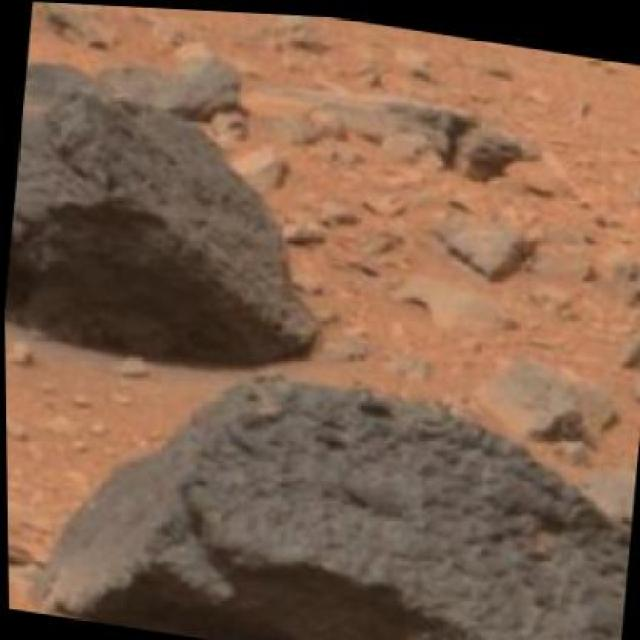rock: (17, 324, 638, 638), (1, 48, 350, 388), (465, 339, 626, 443), (422, 190, 546, 278), (81, 3, 342, 35), (571, 445, 634, 561)
